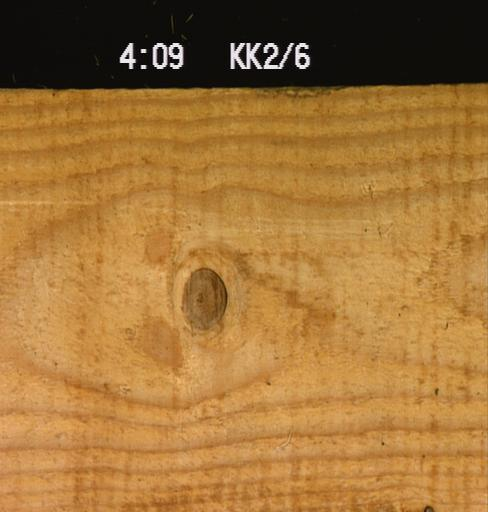dry_knot: (180, 265, 227, 331)
